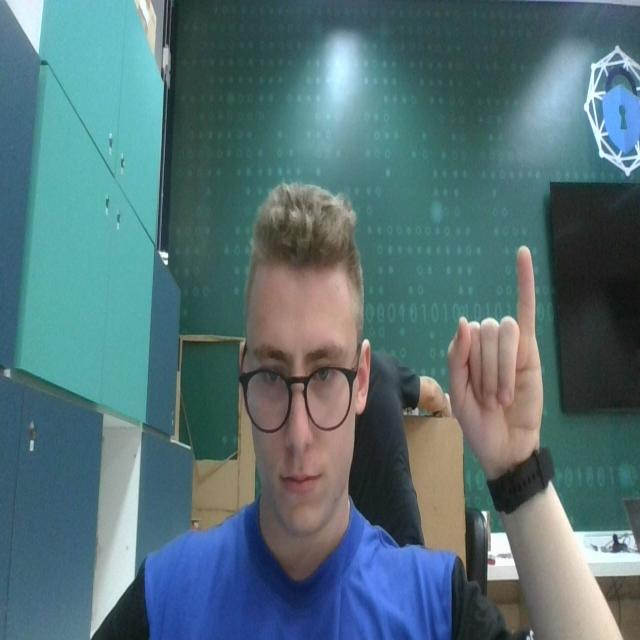I: (447, 240, 545, 462)
